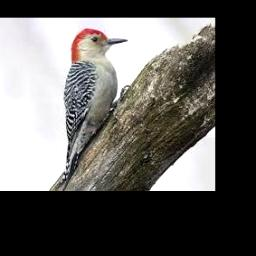Woodpecker: (52, 28, 128, 190)
